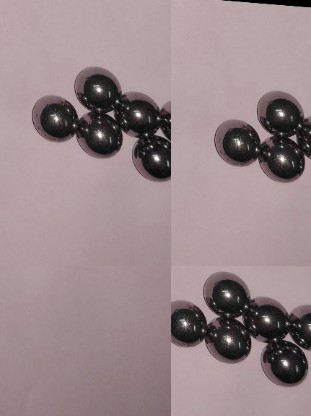ironball: (253, 86, 305, 140), (202, 269, 253, 318), (258, 339, 307, 389), (214, 115, 261, 166), (259, 135, 306, 183), (33, 91, 78, 140), (77, 65, 121, 115), (204, 318, 248, 363), (79, 114, 122, 160), (169, 297, 207, 348), (130, 134, 168, 184), (123, 89, 160, 138), (248, 294, 286, 338), (286, 299, 309, 350)
